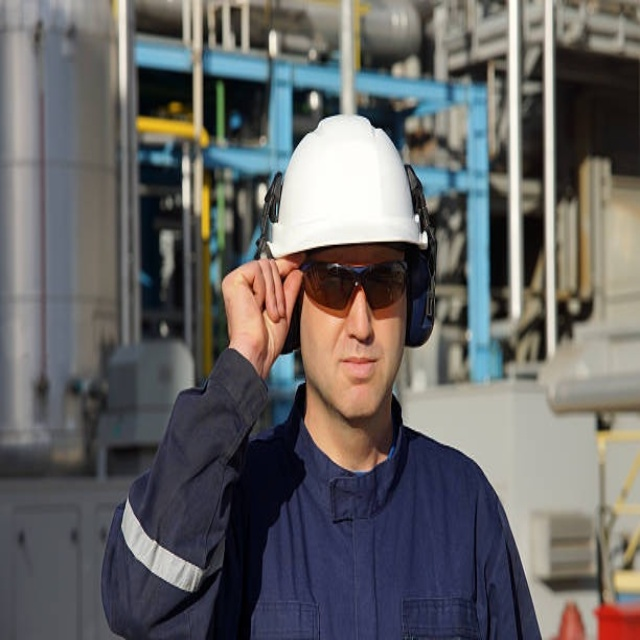Gafas: (300, 254, 410, 312)
Sin_guantes: (218, 256, 300, 370)
Sin_mascara: (334, 344, 383, 405)
